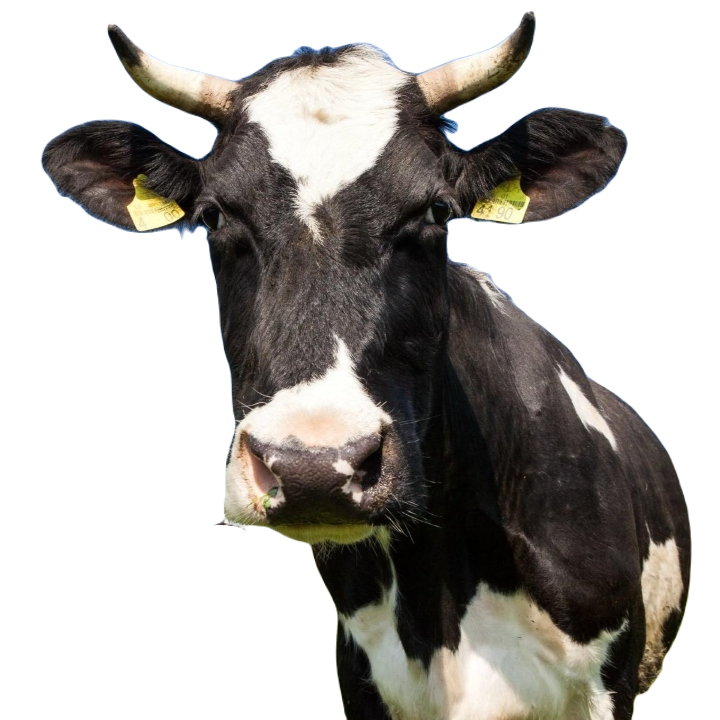Cow: (36, 10, 693, 719)
